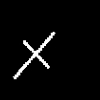single_crochet: (14, 32, 54, 78)
